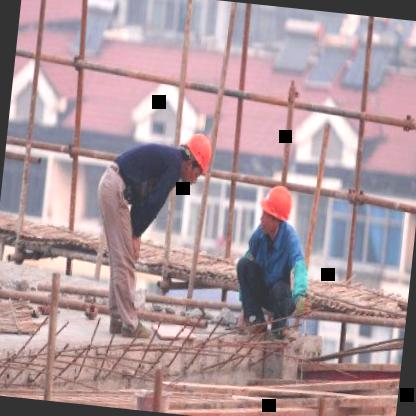helmet: (170, 122, 218, 192), (252, 176, 297, 244)
